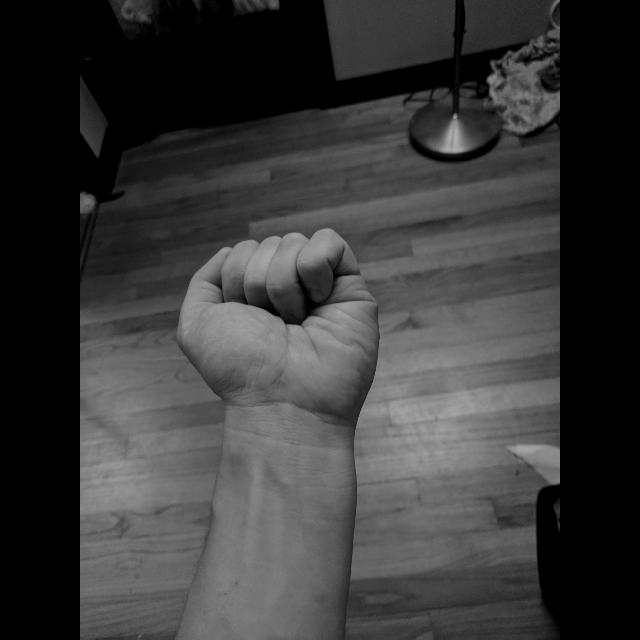A: (168, 222, 386, 432)
